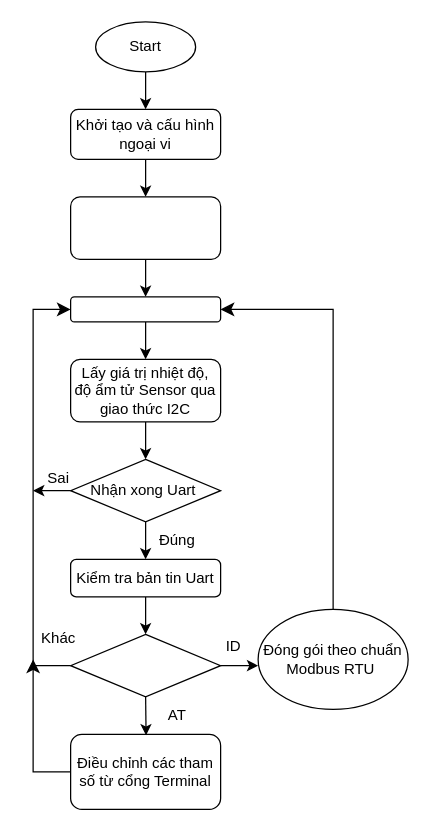
Image size: 430x831. Some labels were removed from this diagram. The shapes that lost their labels are listed below. From the top down, each one's centre as x and y in pixels, then its label:
the point at 145,227: Đọc tham số từ Flash và chạy trương trình ban đầu
the point at 145,309: While (1)
the point at 145,665: Bản tin nhận được
